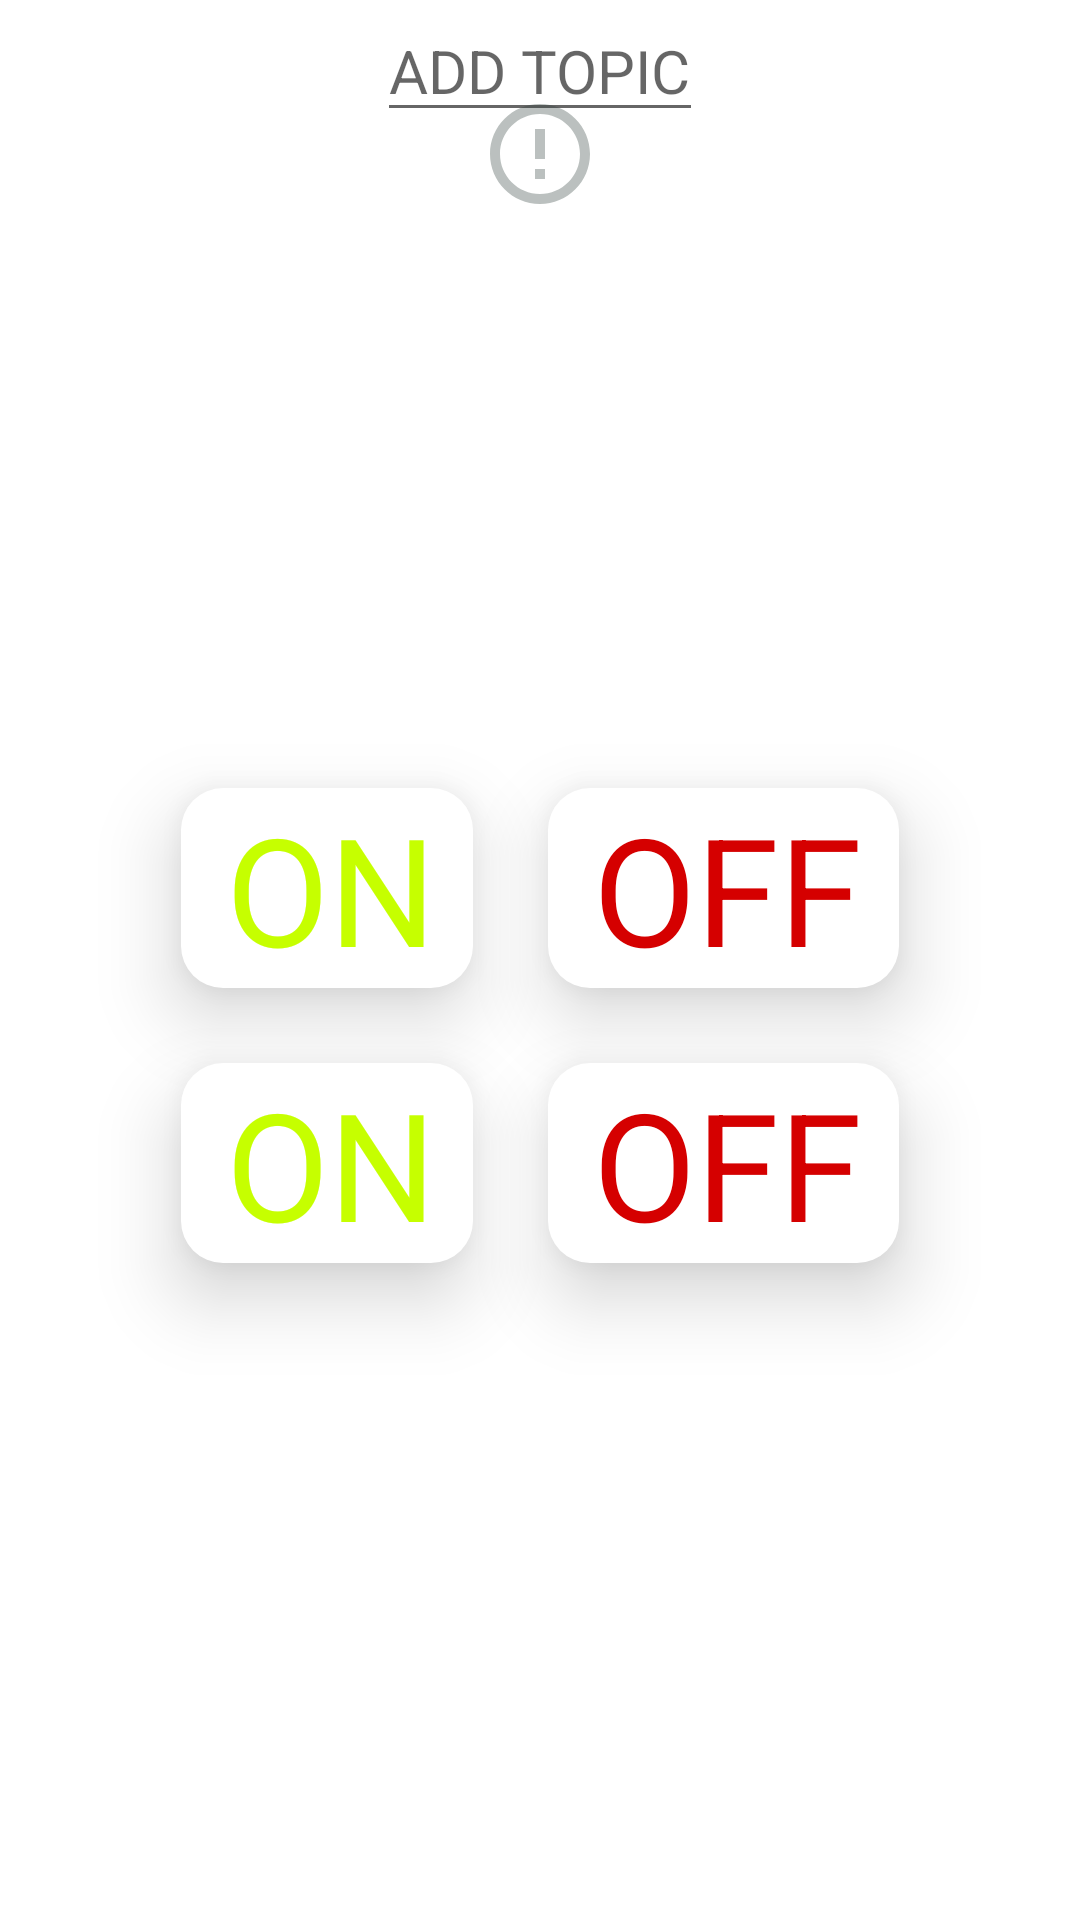

Icons on this 1080×1920 Android screen, each with its box as (x1, y1, x2, y2):
erroroutline: (480, 94, 600, 204)
